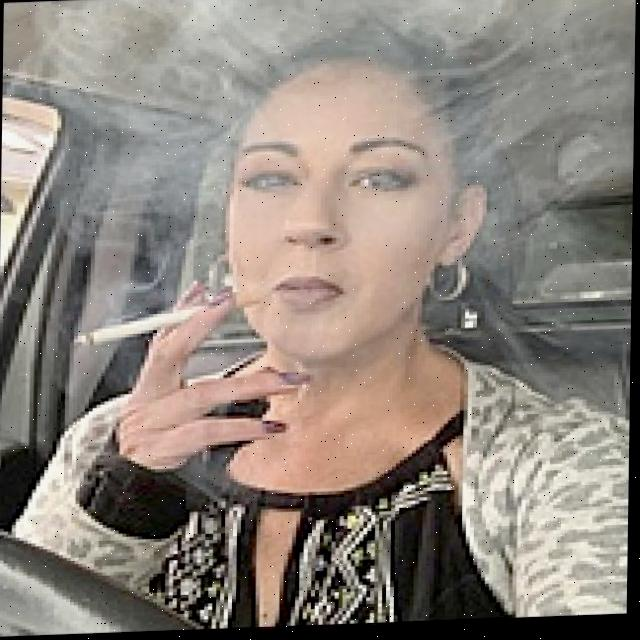cigarette: (73, 296, 263, 350)
